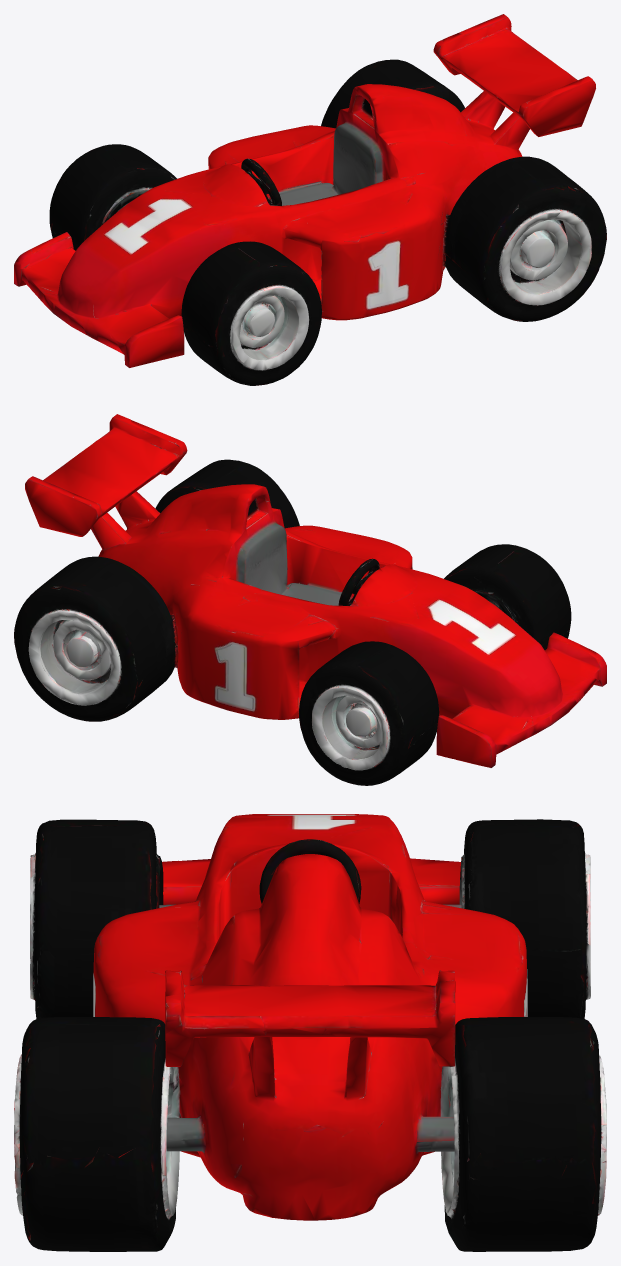
The model's file is kart.glb.
3 renders of one model, top to bottom at view 1: azimuth 30°, elevation 25°; view 2: azimuth 150°, elevation 25°; view 3: azimuth 270°, elevation 25°, orthographic. The views are drawn at different scales.
Visible parts, largest first — view 1: Mesh_0; view 2: Mesh_0; view 3: Mesh_0.
Boxes of the visible parts, left/top/right/bottom form: Mesh_0: left=14, top=14, right=606, bottom=385; Mesh_0: left=14, top=414, right=606, bottom=785; Mesh_0: left=14, top=814, right=606, bottom=1251.
Bounding box in the file's own units: 1.9 × 0.7186 × 1.23.
1 material, 1 textured.
